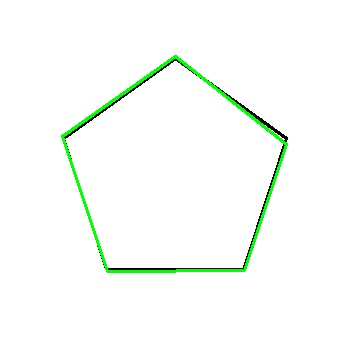line_segment: (62, 56, 288, 272)
